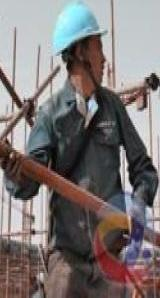gloves: (1, 151, 42, 200), (126, 186, 150, 242)
hard-hat: (51, 0, 108, 56)
